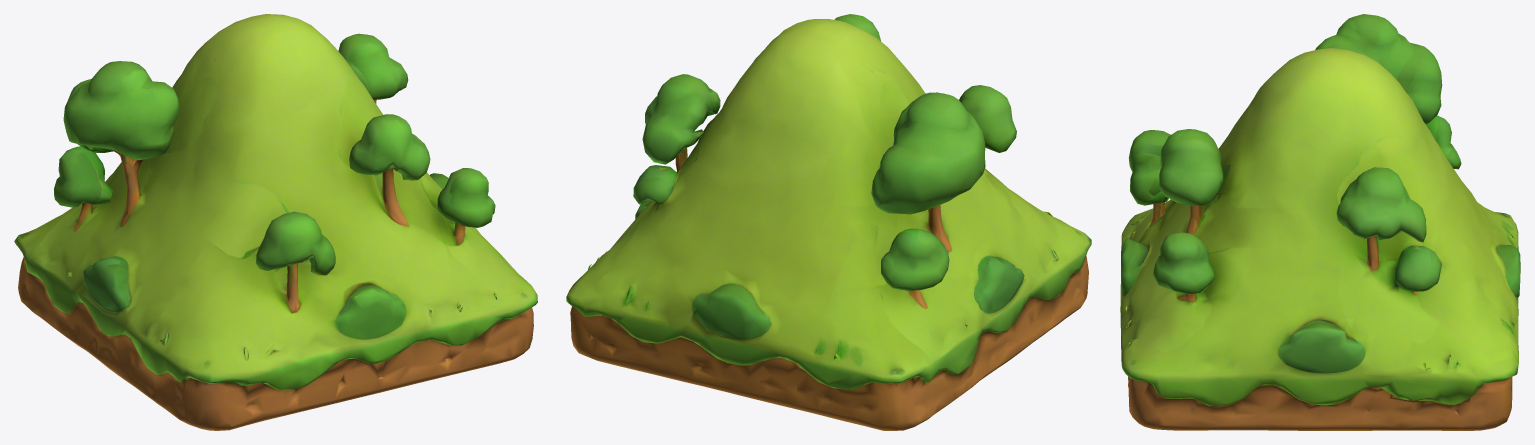
The model's file is Hill_2.glb.
The picture shows the model from 3 angles, left to right: view 1: azimuth 30°, elevation 25°; view 2: azimuth 150°, elevation 25°; view 3: azimuth 270°, elevation 25°; orthographic projection. The views are drawn at different scales.
Size of the model in its own units: 2 by 1.66 by 2.
Materials: 1 (1 with a texture image).
